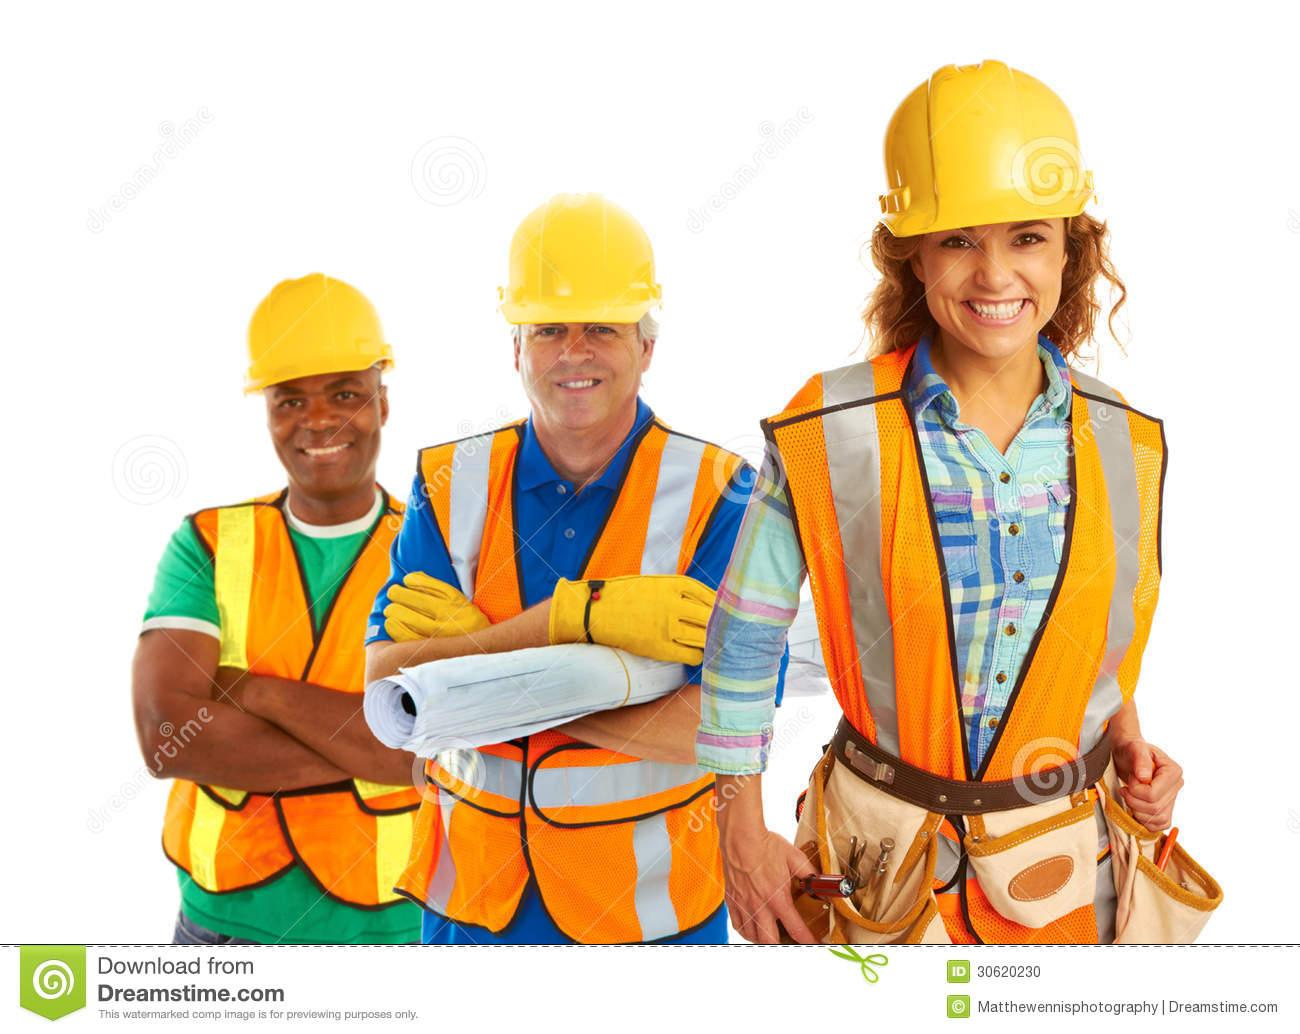helmet: (874, 53, 1103, 249), (498, 191, 665, 329), (236, 268, 396, 404)
